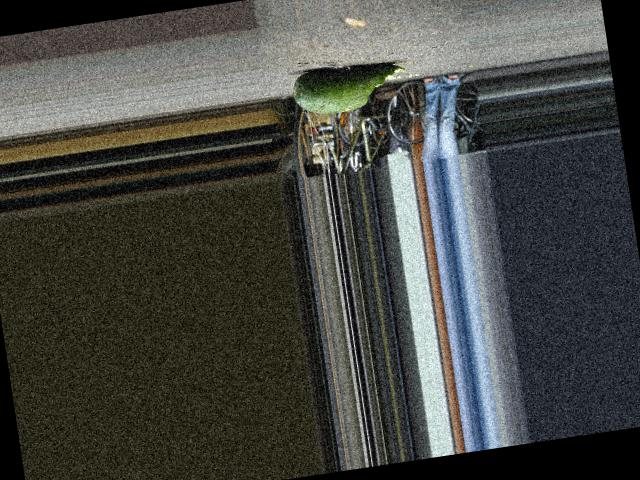cucumber: (291, 57, 411, 118)
